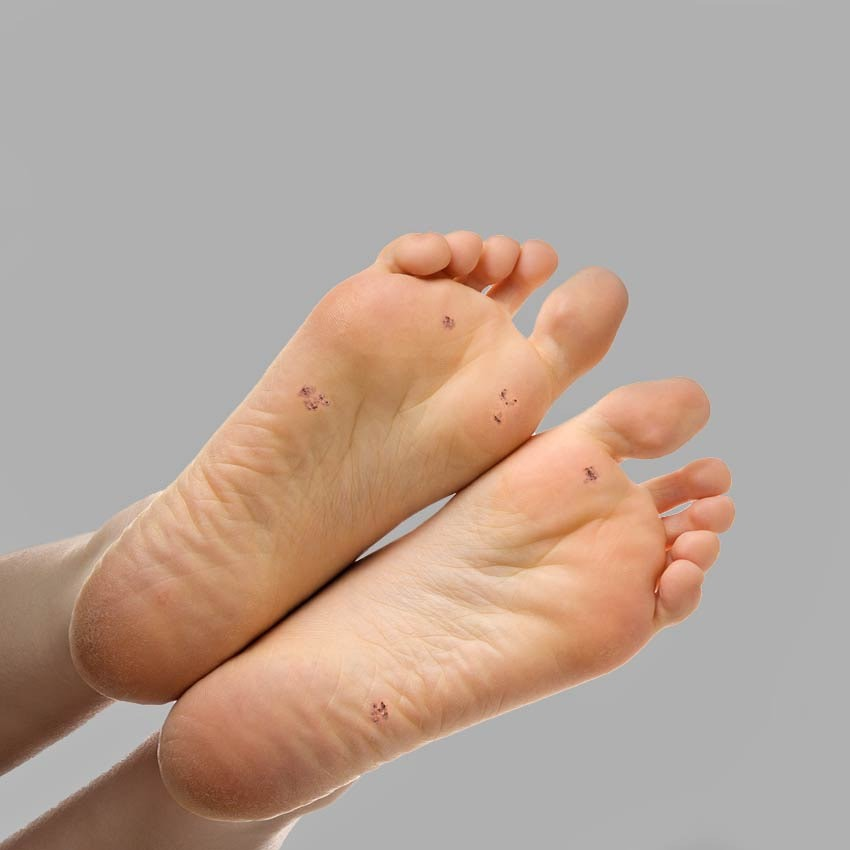Warts: (433, 296, 525, 437), (346, 675, 412, 744), (280, 368, 342, 433), (573, 446, 606, 502)
